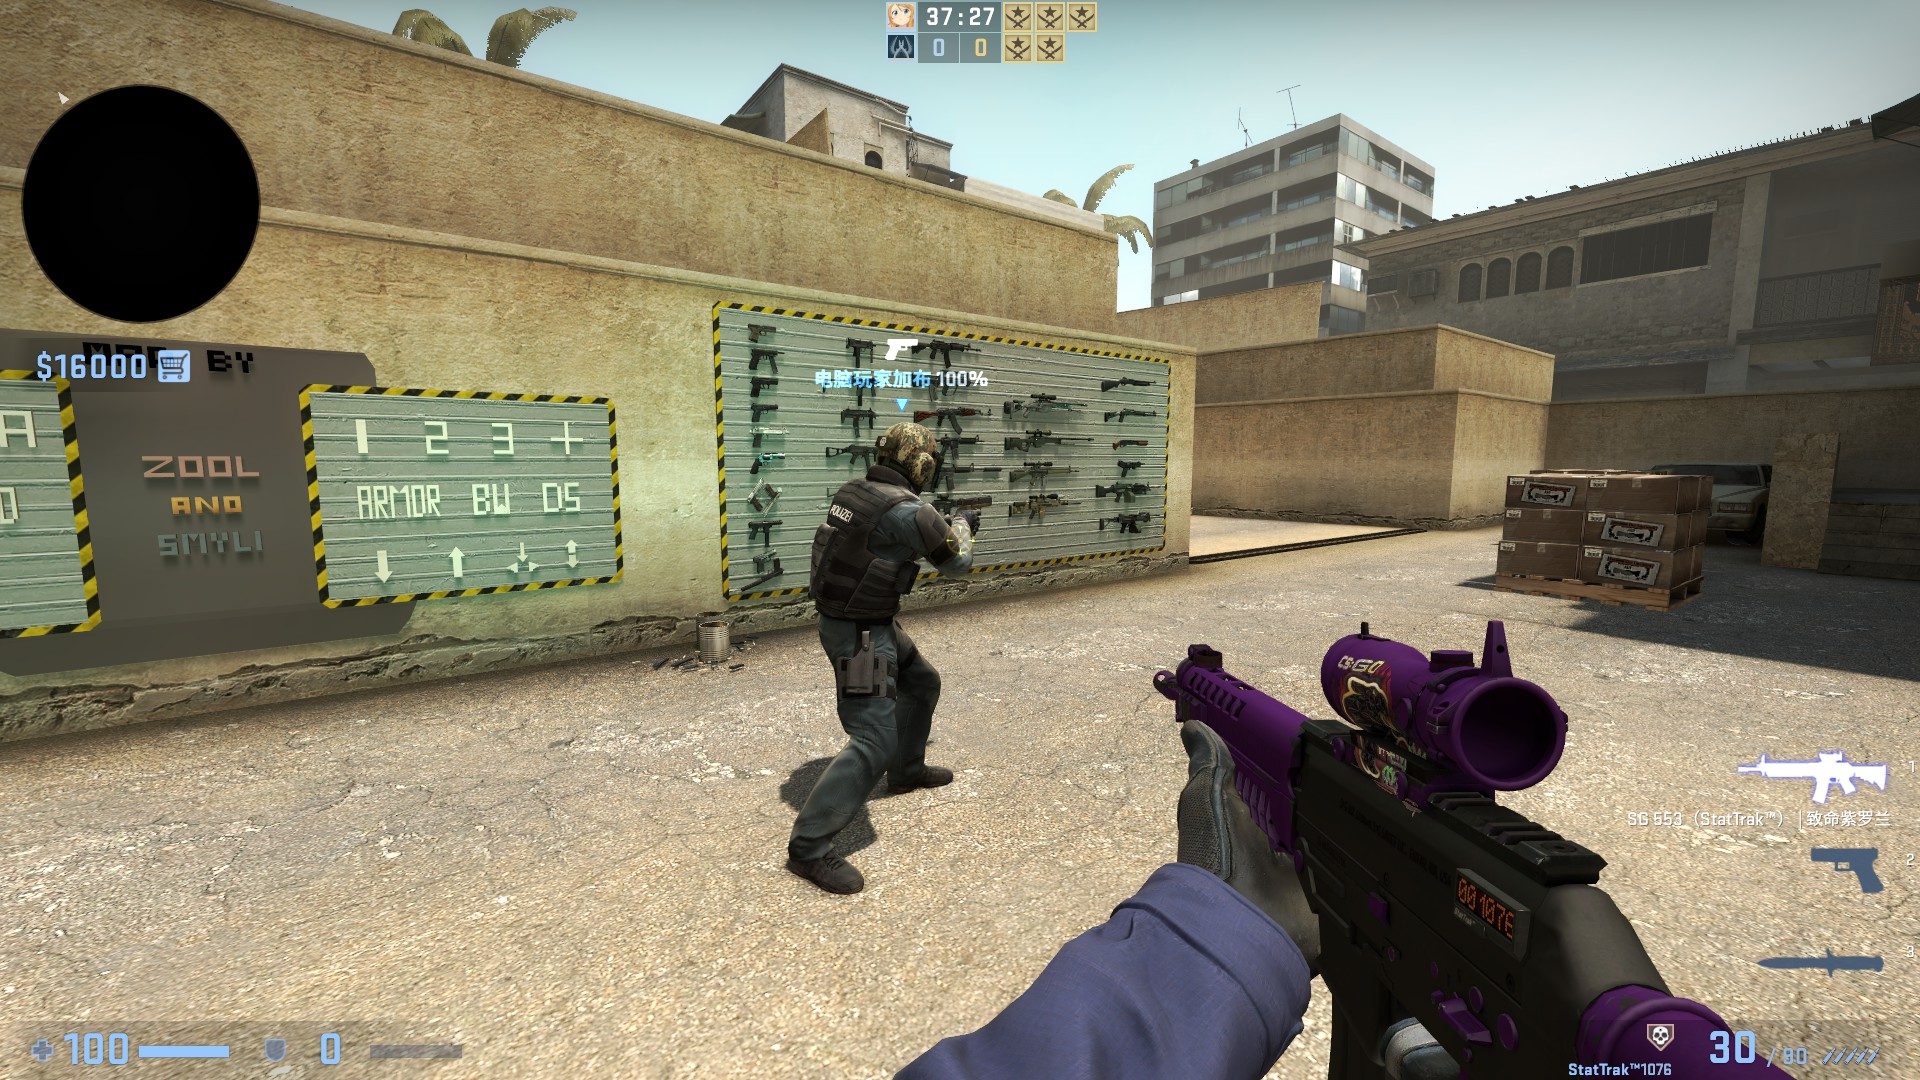head: (877, 416, 944, 500)
